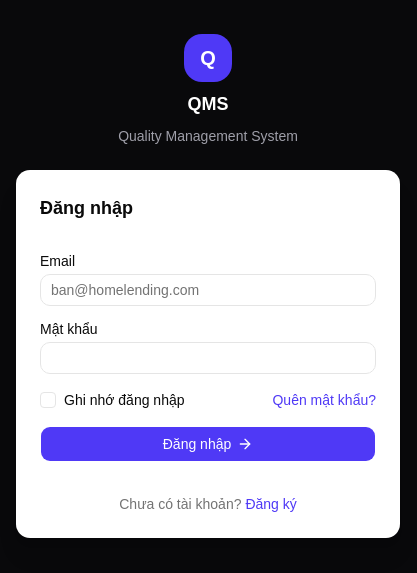
Test: LoginPage › shows a plain error for a normal invalid-credentials failure
This screenshot has width=417, height=573.
Type "an@example.com" into the field labelled "Email" at [208, 290], box [40,274,376,306]
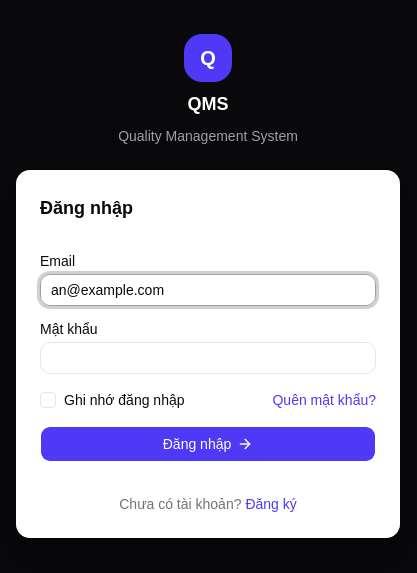
Type "wrong" into the password field labelled "Mật khẩu" at [208, 358], box [40,342,376,374]
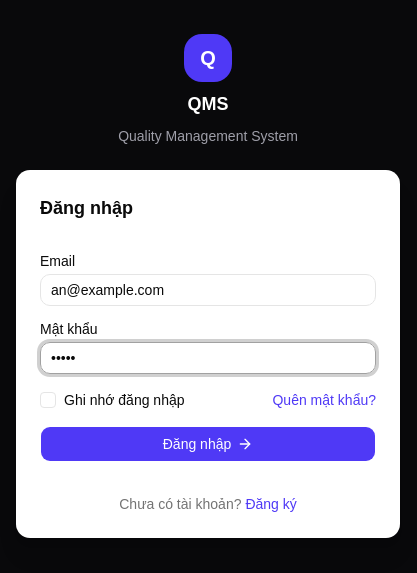
Click the button "Đăng nhập" at [208, 444], box [40,426,376,462]
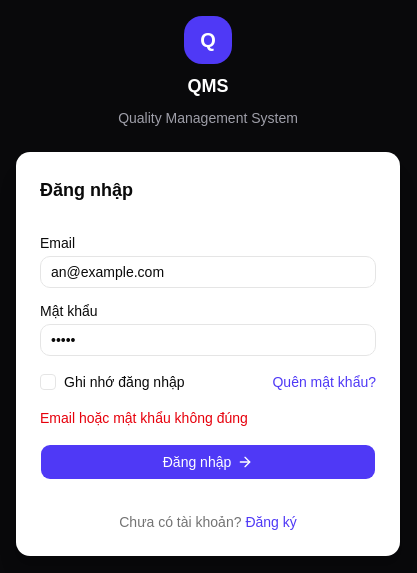
Result: the text "Email hoặc mật khẩu không đúng" is shown at [40,410,248,426]
